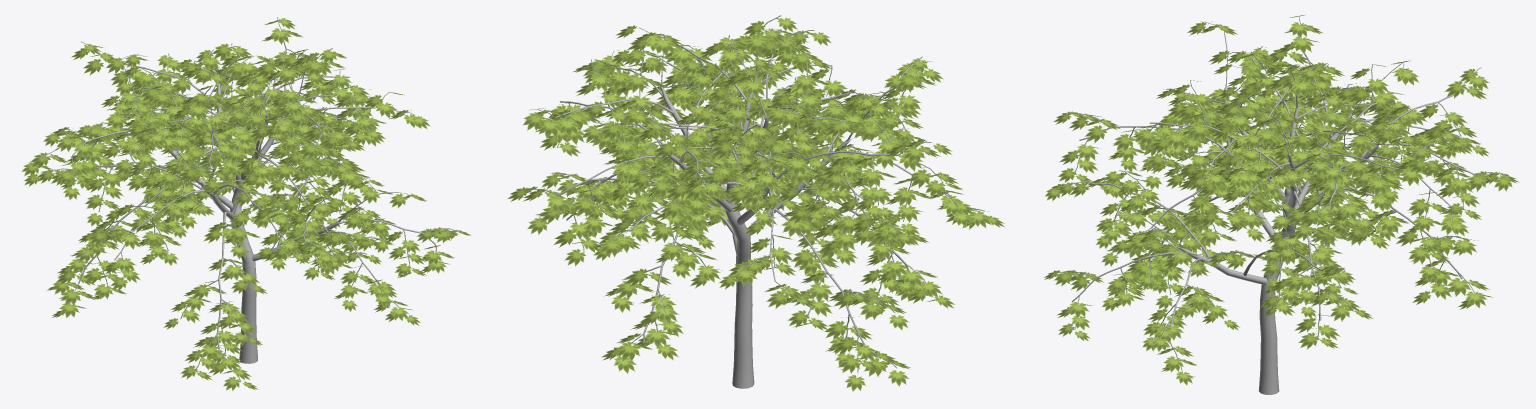
3 views of the same model, side by side, from view 1: azimuth 30°, elevation 25°; view 2: azimuth 150°, elevation 25°; view 3: azimuth 270°, elevation 25° (orthographic). The views are drawn at different scales.
Parts seen in each view (by area): view 1: WGJ_Maple03_01..Shape; view 2: WGJ_Maple03_01..Shape; view 3: WGJ_Maple03_01..Shape.
Boxes of the visible parts, x1=… form: WGJ_Maple03_01..Shape: x1=21, y1=17, x2=471, y2=391; WGJ_Maple03_01..Shape: x1=507, y1=15, x2=1004, y2=391; WGJ_Maple03_01..Shape: x1=1043, y1=15, x2=1519, y2=394.
Bounding box in the file's own units: 1.33 × 1.03 × 1.39.
3 materials, 1 textured.
